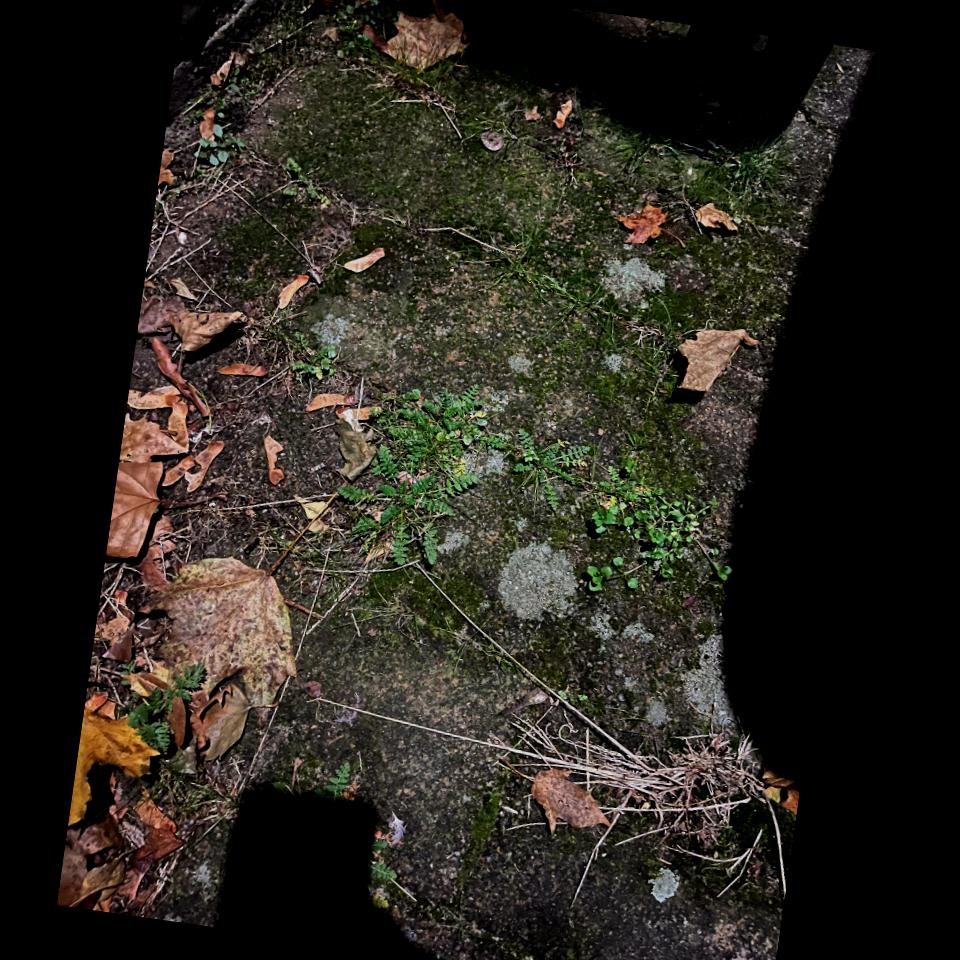weed: (216, 762, 416, 955), (513, 430, 715, 591), (340, 387, 491, 564), (127, 687, 174, 752), (291, 333, 337, 380)
